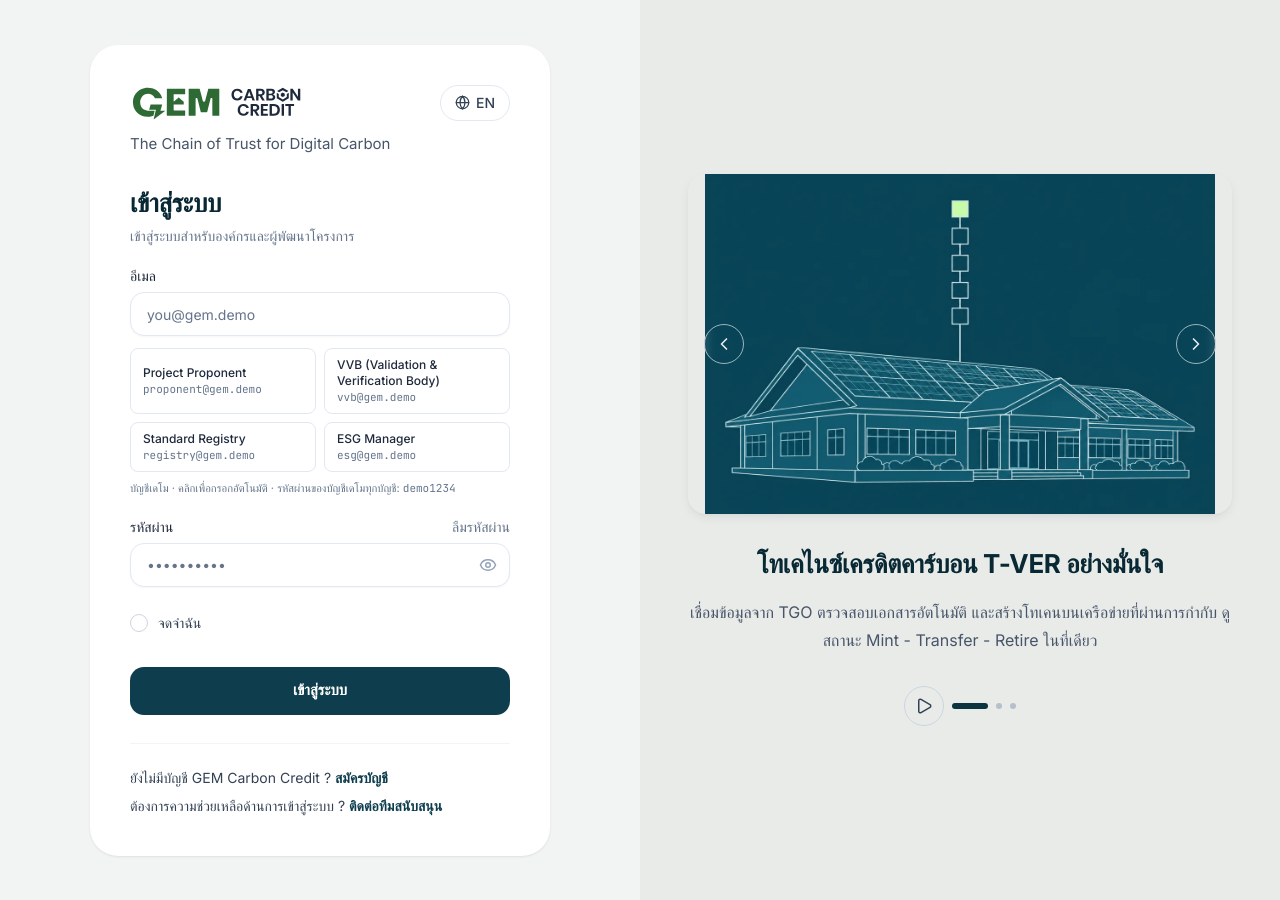
Test: Login carousel accessibility › stops automatic advance immediately when reduced motion becomes active, retaining manual navigation
The image size is (1280, 900).
Expected: the button named "Carousel paused for reduced motion" is disabled, [904,686,944,726]
Expected: the heading "โทเคไนซ์เครดิตคาร์บอน T-VER อย่างมั่นใจ" is shown, [757,548,1163,579]
Click the button named "สไลด์ถัดไป": (1196, 344) [1176,324,1216,364]
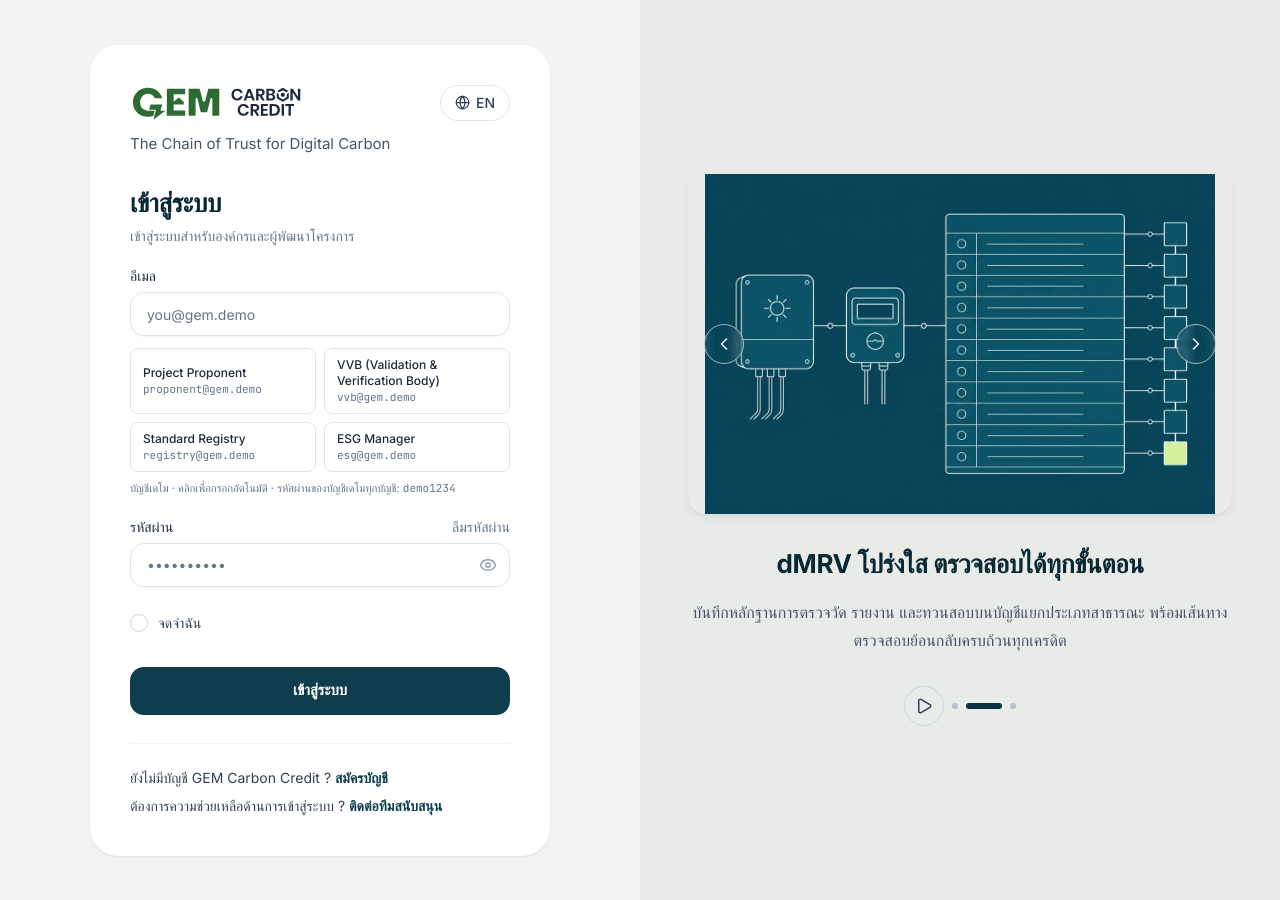
Expected: the heading "dMRV โปร่งใส ตรวจสอบได้ทุกขั้นตอน" is shown, [776,548,1144,579]
